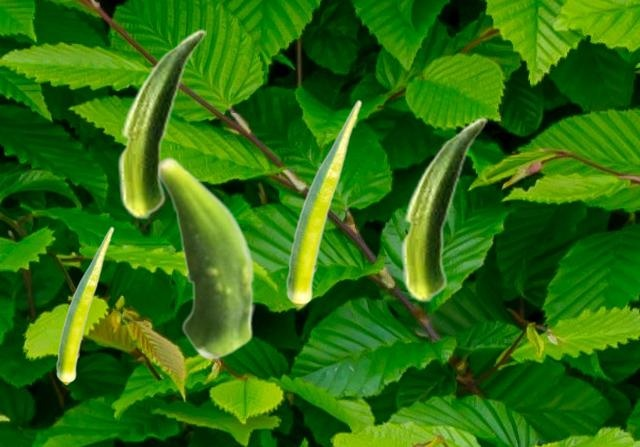okra: (162, 156, 255, 359), (117, 29, 205, 219), (400, 117, 486, 302), (286, 99, 361, 307), (56, 226, 113, 384)
